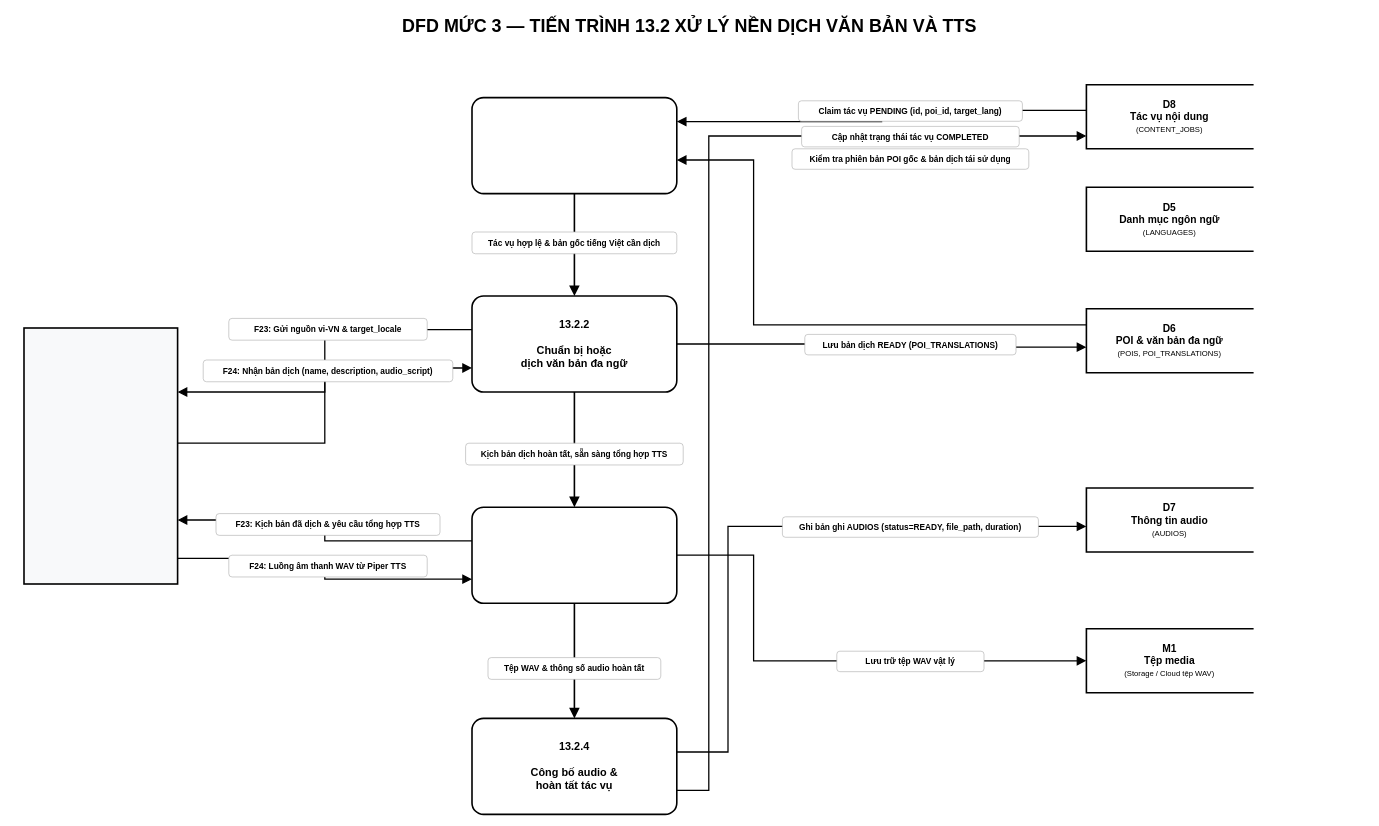
The diagram is 1379 pixels wide and 826 high, and some of its shapes have lost their labels. The box of each missing label's shape, as (x1, y1, x2, y2) in pixels:
13.2.1 Nhận tác vụ & kiểm tra phiên bản: (471, 97, 677, 194)
13.2.3 Tái sử dụng hoặc tổng hợp audio WAV: (471, 506, 677, 604)
E5 Dịch vụ dịch & TTS (Google Translate / Piper TTS): (23, 327, 178, 585)
